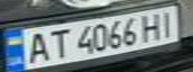0: (90, 20, 112, 52)
4: (72, 22, 96, 55)
6: (106, 17, 127, 50), (121, 15, 142, 47)
A: (21, 29, 54, 64)
H: (136, 11, 166, 42)
I: (154, 8, 181, 38)
T: (42, 26, 72, 60)
